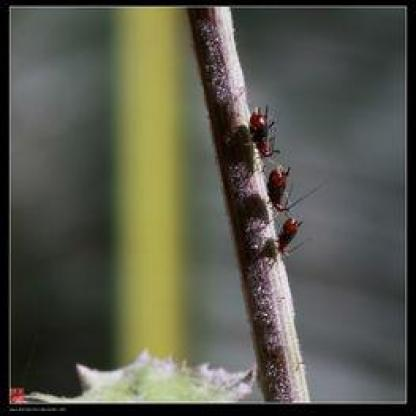aphid: (260, 157, 318, 222), (249, 103, 291, 162), (275, 217, 310, 257)
